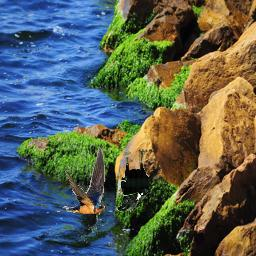Crow: (115, 149, 149, 211)
Swallow: (57, 146, 105, 214)
